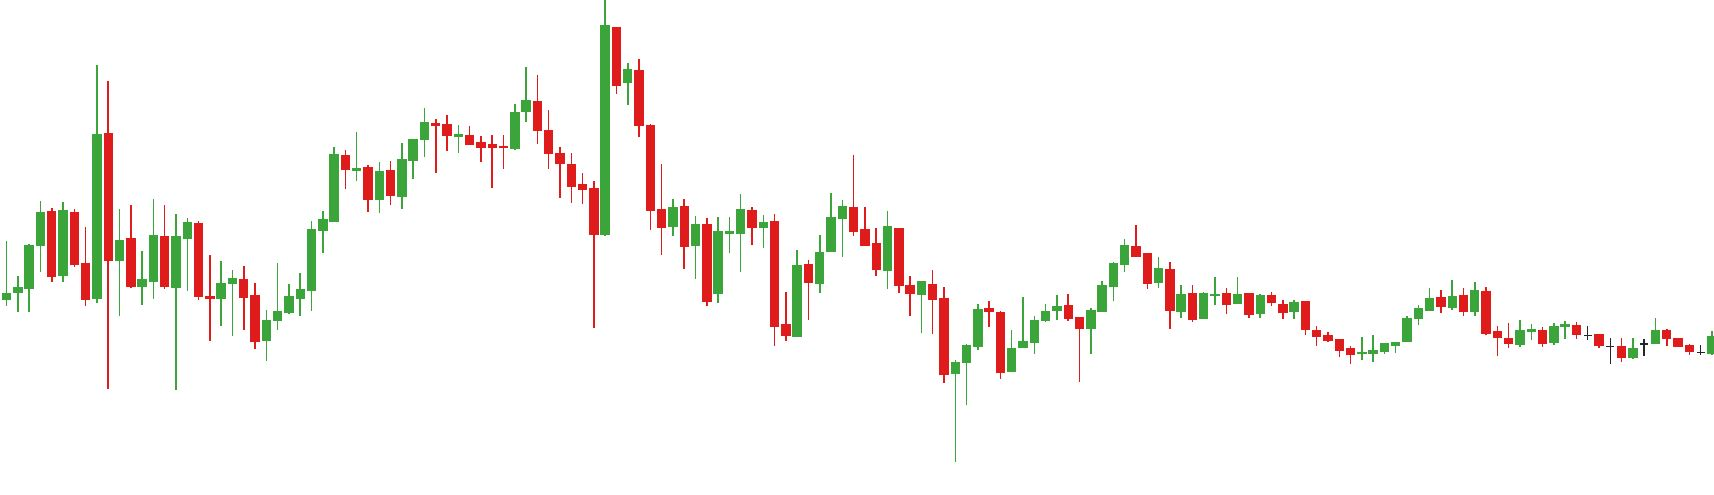sell: (733, 148, 861, 292), (519, 2, 622, 164)
